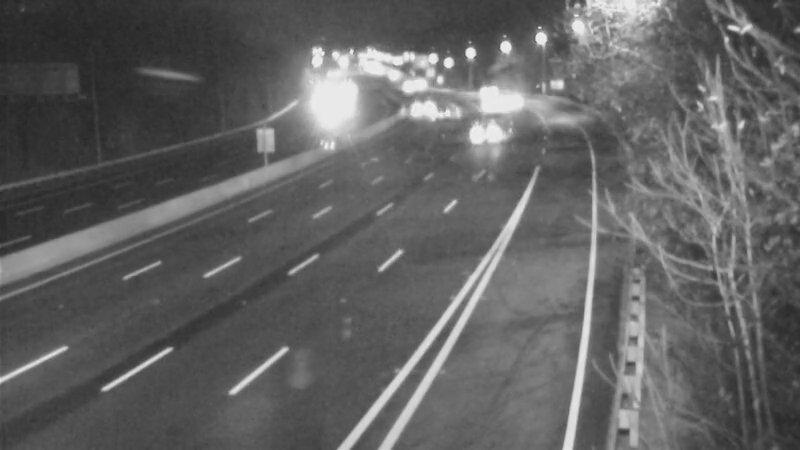vehicle: (483, 75, 533, 125), (391, 80, 441, 130), (455, 78, 505, 128), (416, 86, 466, 136), (457, 105, 507, 155)
